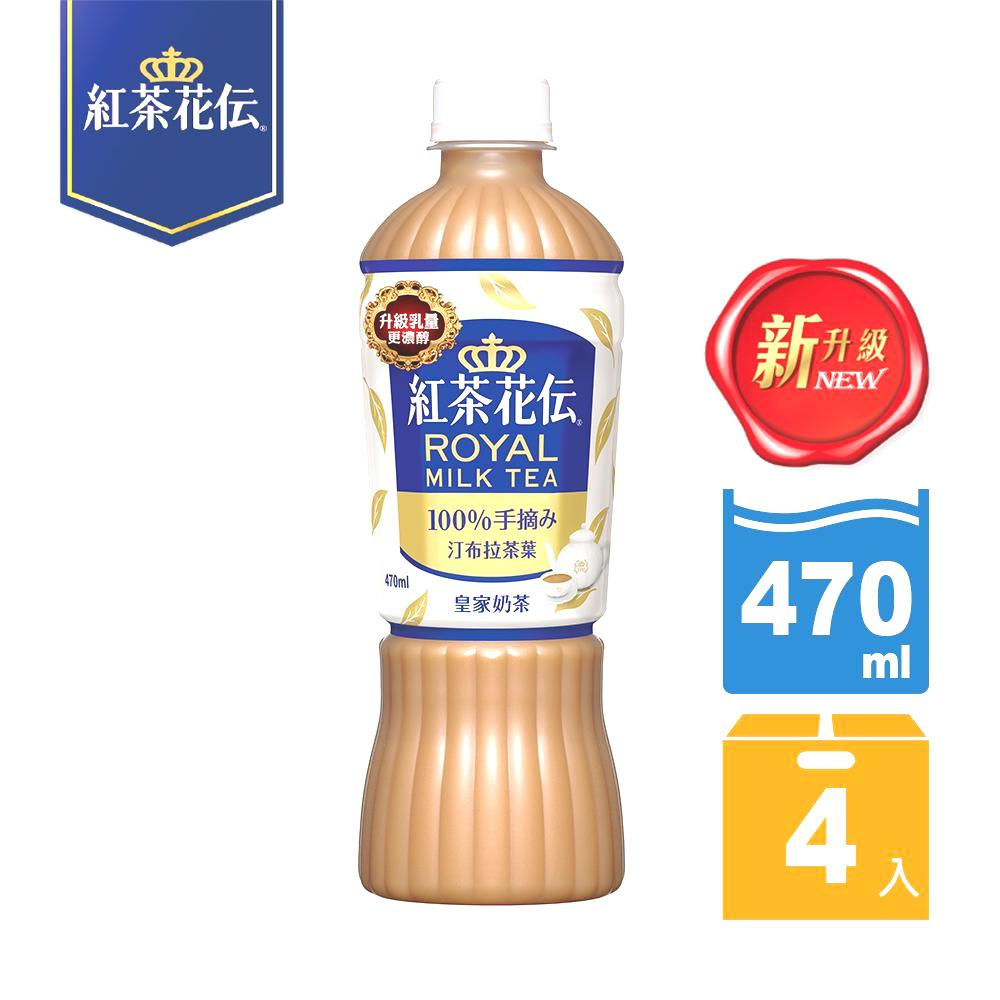bottle: (347, 87, 637, 895)
